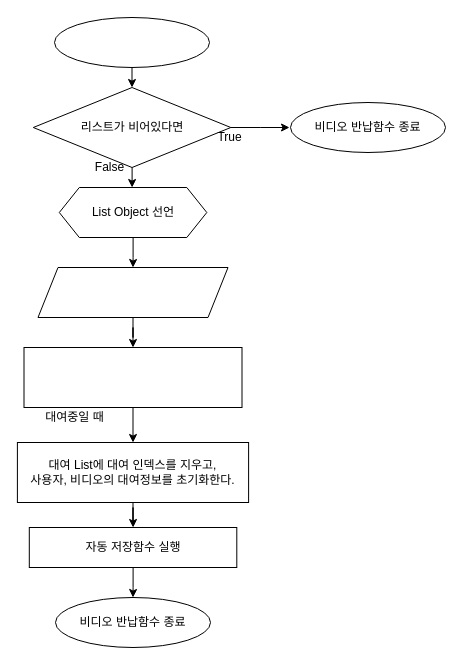
Some shapes in this 464 by 665 pixel diagram are drawn without their labels. The centre of each missing label's shape, as x and y in pixels:
검색 함수를 이용해 비디오 List에서의 대여 상태를 확인: point 132,377
반납할 비디오의 이름을 입력: point 132,292
비디오 반납함수 호출: point 132,42
